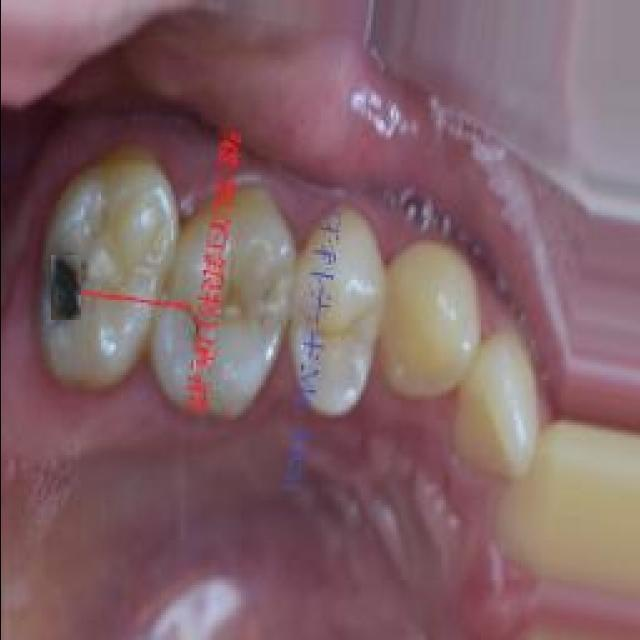caries: (50, 255, 80, 320)
